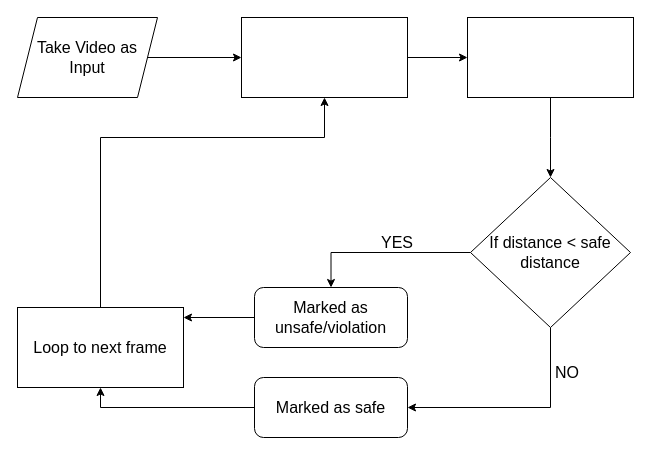
Image size: 651x455. Some labels were removed from this diagram. The shapes that lost their labels are listed below. From the top down, each one's centre as x and y in pixels, then its label:
(324,57): Person detection, collect bounding boxes using YOLO
(550,57): Calculate distance between each pair of wrapped box points
